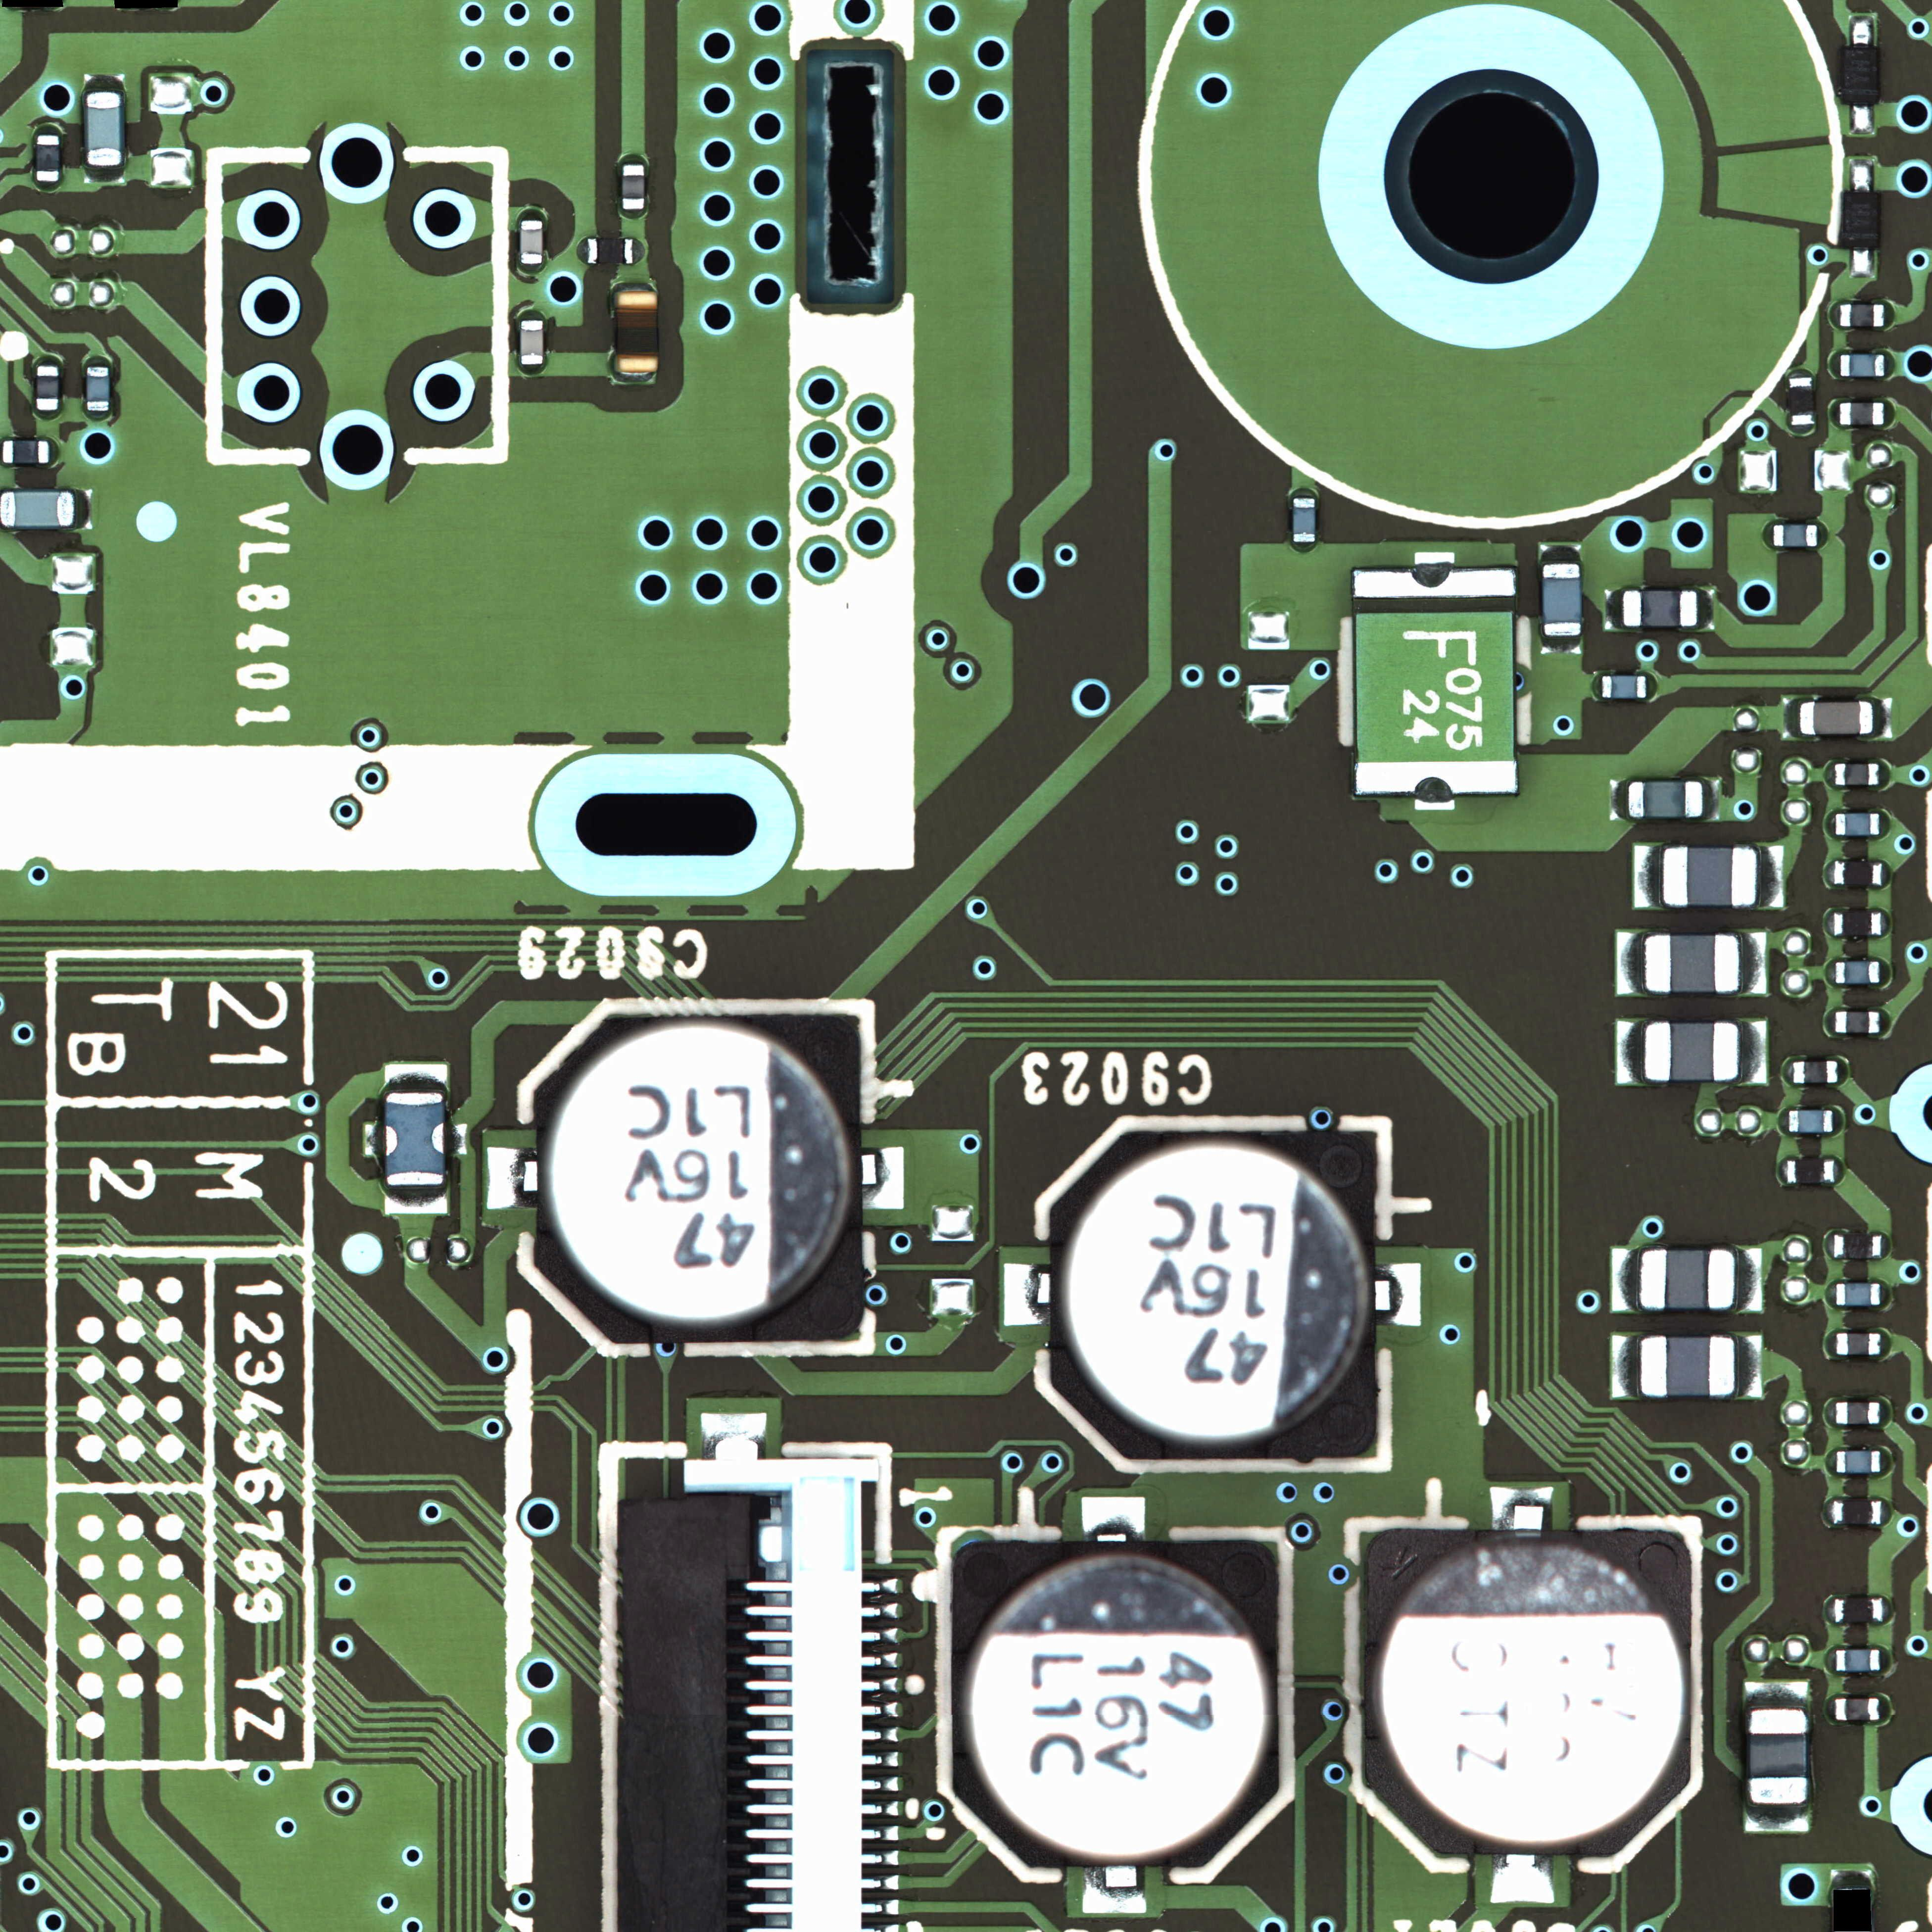Package: (536, 1014, 862, 1343), (1362, 1529, 1691, 1854), (1051, 1131, 1376, 1458), (952, 1541, 1277, 1867), (1352, 570, 1516, 793), (1663, 846, 1759, 908), (1640, 1336, 1736, 1398), (1748, 1711, 1810, 1805), (1644, 934, 1739, 994), (1645, 1021, 1739, 1081), (1642, 1249, 1734, 1309), (386, 1093, 444, 1184), (614, 290, 660, 372), (1622, 589, 1697, 626), (1543, 564, 1582, 635), (1628, 782, 1702, 817), (0, 492, 74, 527), (87, 92, 122, 165), (1801, 702, 1872, 734), (1845, 193, 1881, 248), (1845, 46, 1877, 103), (1789, 379, 1815, 425), (1835, 860, 1881, 885), (1789, 1159, 1835, 1184), (1835, 1233, 1881, 1258), (1835, 1500, 1881, 1525), (2, 441, 48, 465), (587, 239, 632, 264), (1601, 674, 1645, 699), (1835, 1010, 1881, 1033), (1836, 1598, 1882, 1621), (520, 219, 543, 264), (87, 366, 110, 410), (1840, 402, 1884, 425), (1836, 961, 1881, 984), (1789, 1109, 1833, 1132), (1836, 1283, 1881, 1306), (1836, 1332, 1881, 1355), (1836, 1697, 1881, 1720), (37, 364, 58, 410), (1835, 913, 1881, 934), (1836, 1401, 1879, 1424), (37, 136, 58, 180), (623, 165, 644, 209), (522, 320, 543, 364), (1293, 497, 1315, 541), (1840, 304, 1884, 326), (1840, 354, 1884, 375), (1835, 764, 1879, 786), (1794, 1062, 1838, 1083), (1836, 1451, 1881, 1472), (1836, 1649, 1881, 1670), (1836, 814, 1879, 835), (1773, 525, 1817, 545)
Solder: (1491, 1854, 1555, 1904), (1083, 1867, 1148, 1914), (1490, 1484, 1557, 1529), (1378, 1261, 1422, 1327), (1005, 1263, 1049, 1327), (1081, 1497, 1146, 1539), (488, 1148, 534, 1208), (862, 1146, 904, 1210), (1739, 1021, 1769, 1083), (1736, 1334, 1764, 1398), (1617, 1021, 1645, 1083), (1633, 844, 1660, 909), (1746, 1681, 1806, 1709), (1741, 934, 1769, 994), (1746, 1805, 1810, 1831), (1612, 1334, 1638, 1398), (386, 1185, 444, 1214), (1736, 1249, 1762, 1311), (1759, 846, 1785, 908), (1410, 552, 1456, 587), (384, 1065, 444, 1092), (1614, 1249, 1640, 1309), (1617, 932, 1642, 994), (1414, 777, 1456, 810), (1608, 778, 1628, 819), (1831, 1870, 1875, 1888), (1543, 543, 1582, 563), (1851, 104, 1875, 134), (1851, 159, 1874, 191), (1851, 16, 1874, 46), (1852, 249, 1875, 280), (1543, 635, 1582, 653), (1702, 782, 1720, 819), (1606, 589, 1622, 630), (87, 165, 122, 182), (1782, 701, 1799, 736), (85, 74, 124, 90), (1698, 589, 1714, 628), (1874, 702, 1893, 734), (76, 490, 92, 529), (614, 372, 660, 384), (614, 281, 658, 290), (575, 237, 587, 264), (1879, 1697, 1891, 1723), (1776, 1157, 1789, 1184), (1645, 672, 1658, 699), (1824, 1330, 1836, 1355), (1833, 1109, 1845, 1134), (1881, 860, 1893, 885), (1821, 860, 1833, 885), (520, 207, 543, 219), (87, 410, 110, 423), (1824, 1401, 1836, 1424), (1824, 1283, 1836, 1306), (1879, 763, 1891, 786), (1881, 814, 1893, 837), (1824, 961, 1836, 984), (1881, 1010, 1893, 1033), (1884, 402, 1897, 425), (633, 237, 644, 264), (1824, 1596, 1835, 1622), (1881, 1499, 1891, 1525), (1789, 425, 1815, 435), (1591, 672, 1601, 699), (51, 439, 62, 465), (623, 152, 644, 165), (37, 352, 58, 364), (1826, 1695, 1836, 1720), (1822, 1499, 1833, 1523), (1824, 1449, 1835, 1474), (1881, 1332, 1891, 1357), (1881, 1233, 1891, 1258), (1835, 1159, 1845, 1184), (1838, 1060, 1849, 1085), (1778, 1108, 1789, 1132), (1822, 763, 1835, 784), (1824, 814, 1836, 835), (1822, 1012, 1835, 1033), (35, 124, 58, 134), (35, 180, 58, 191), (623, 209, 646, 219), (520, 264, 543, 274), (1884, 304, 1895, 327), (1881, 1649, 1891, 1672), (1882, 1598, 1893, 1621), (1881, 1451, 1891, 1474), (1881, 1401, 1891, 1424), (1881, 1283, 1891, 1306), (1824, 1233, 1835, 1256), (1881, 961, 1891, 984), (1817, 524, 1828, 547), (522, 363, 541, 375), (522, 308, 543, 318), (88, 356, 110, 366), (1783, 1062, 1794, 1083), (1824, 913, 1835, 934), (1293, 541, 1315, 552), (1762, 525, 1773, 547), (1826, 1647, 1835, 1672), (1831, 352, 1840, 377), (1789, 368, 1813, 377), (37, 410, 57, 421), (1882, 913, 1891, 936), (1293, 488, 1316, 497), (1831, 304, 1840, 327), (1886, 354, 1895, 377), (1829, 402, 1838, 425)
